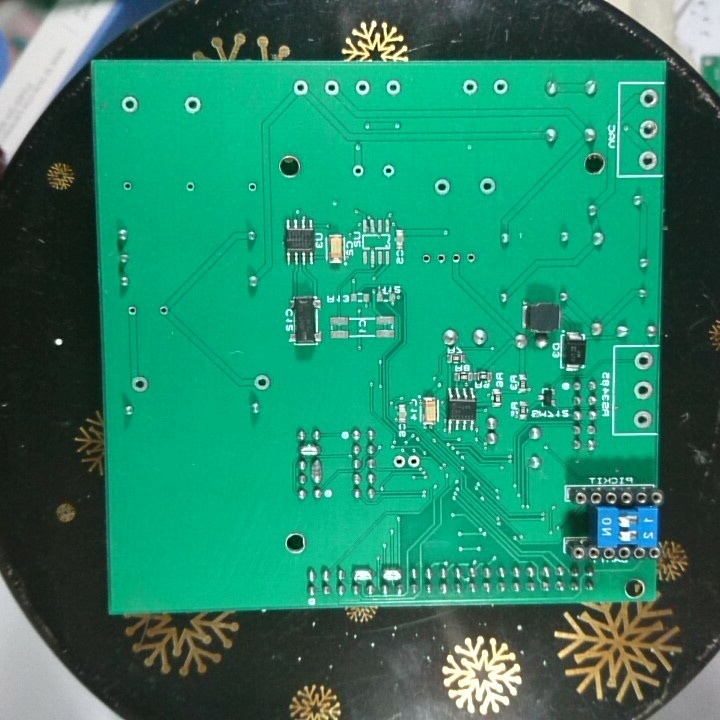F: (631, 378, 655, 406), (118, 92, 143, 117), (636, 118, 661, 143), (181, 93, 206, 117), (637, 86, 661, 111), (476, 174, 499, 199), (632, 349, 656, 372), (630, 409, 655, 431), (128, 372, 151, 395), (431, 176, 454, 199), (250, 371, 273, 393), (635, 149, 659, 170), (352, 76, 374, 98), (491, 76, 511, 98), (291, 77, 311, 98), (322, 77, 342, 98), (459, 77, 479, 98), (384, 78, 403, 98), (379, 161, 398, 181), (462, 249, 479, 269), (406, 452, 422, 472), (448, 248, 463, 269), (350, 160, 366, 179), (419, 249, 434, 269), (244, 178, 261, 195), (391, 452, 407, 470), (433, 249, 448, 268), (155, 302, 171, 319), (119, 178, 134, 196), (125, 303, 141, 319), (182, 179, 197, 195)
P: (349, 563, 376, 584), (379, 562, 405, 583), (296, 443, 325, 460), (308, 458, 324, 486)
